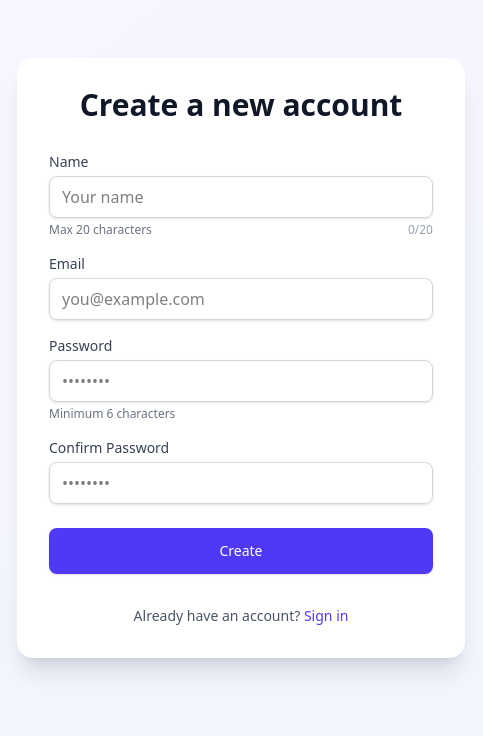
Test: Signup Component › should show error when passwords do not match
Type "John Doe" into the field labelled "Name".
click(241, 197); type("John Doe")  # box [49,176,433,218]
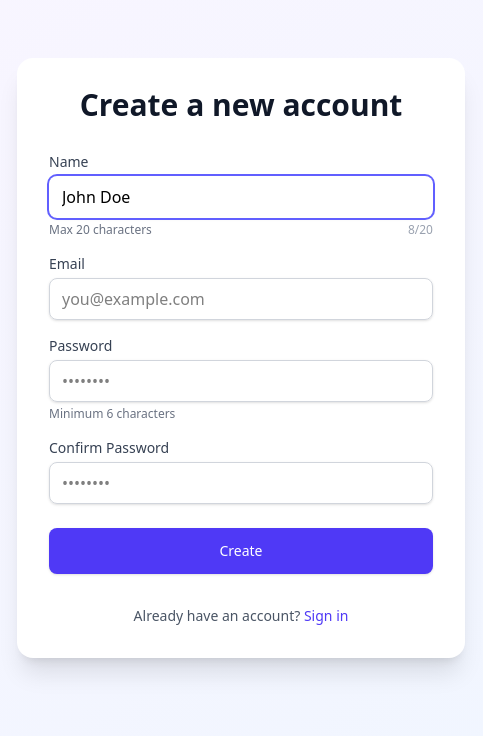
Type "john@example.com" into the field labelled "Email".
click(241, 299); type("john@example.com")  # box [49,278,433,320]
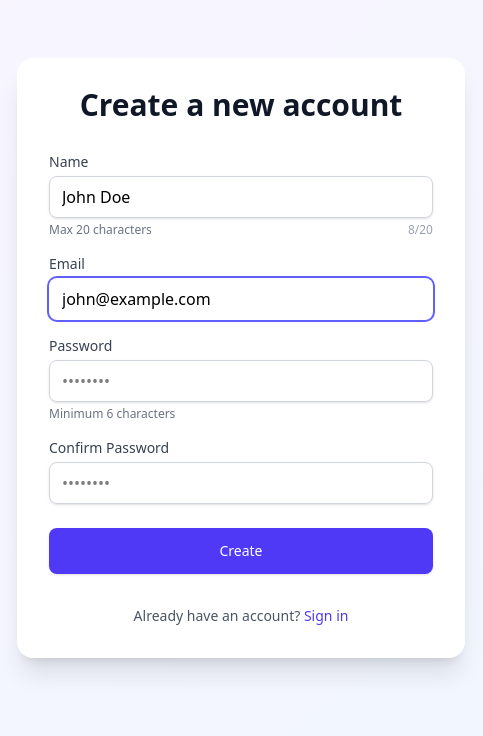
Type "password123" into the password field labelled "Password".
click(241, 381); type("password123")  # box [49,360,433,402]
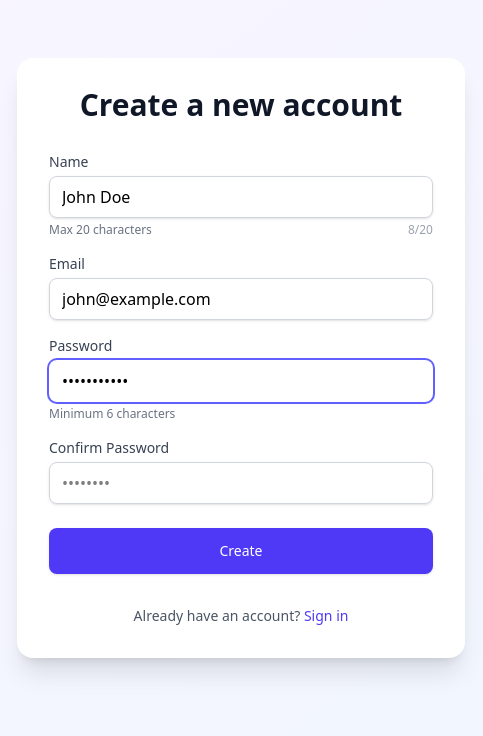
Type "password456" into the password field labelled "Confirm Password".
click(241, 483); type("password456")  # box [49,462,433,504]
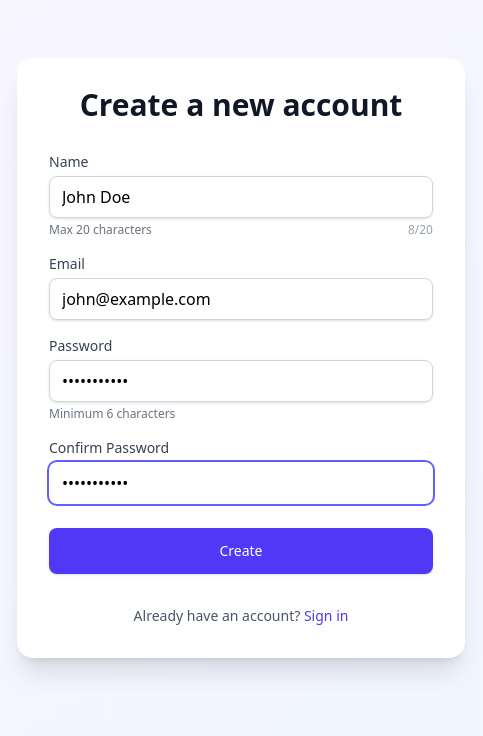
Click the button "Create".
click(241, 551)  # box [49,528,433,574]
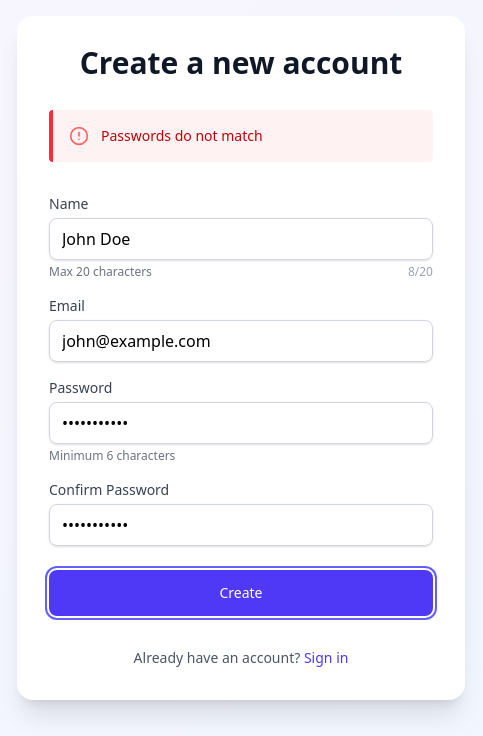
Expected: the text "Passwords do not match" is shown, [101,126,263,146]
